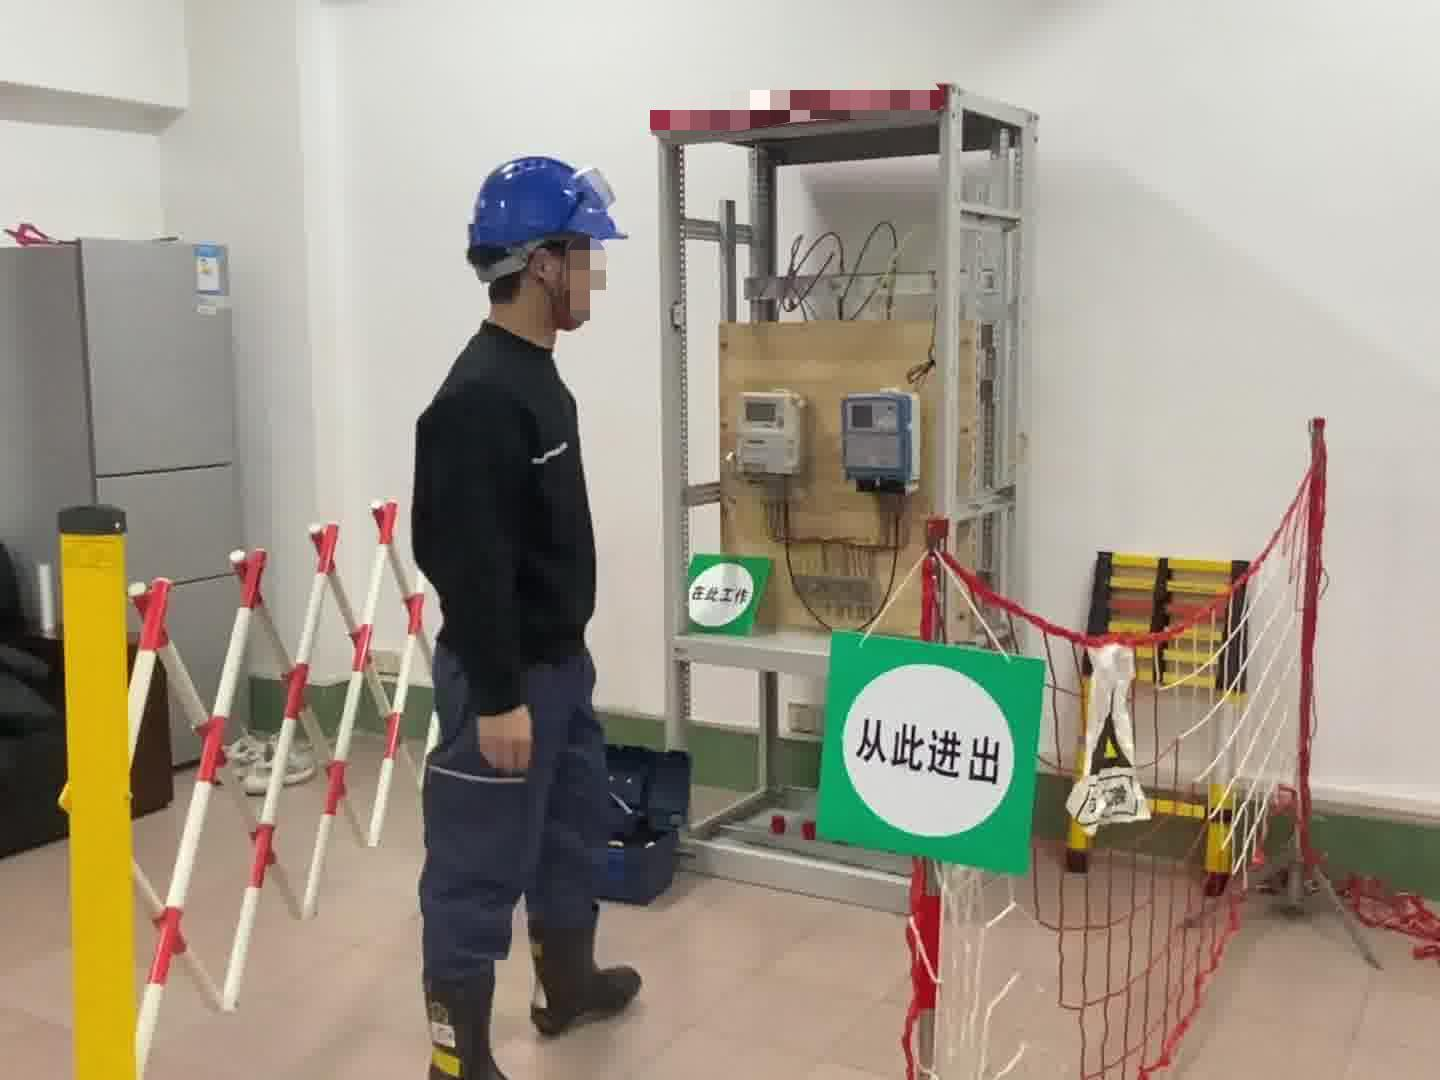halt: (464, 155, 630, 346)
inear: (520, 238, 579, 309)
